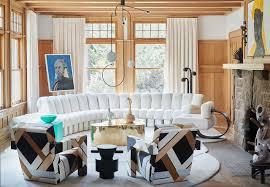chair: (11, 121, 87, 186), (127, 125, 200, 186)
light: (92, 0, 153, 87)
sofa: (34, 92, 216, 134)
table: (86, 117, 148, 145), (87, 144, 128, 182), (40, 119, 65, 141), (246, 163, 270, 182)
